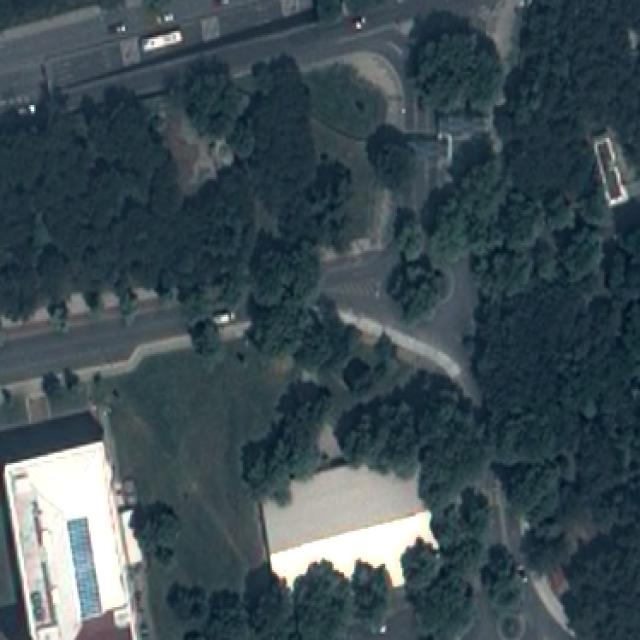Batiment: (4, 440, 130, 638)
